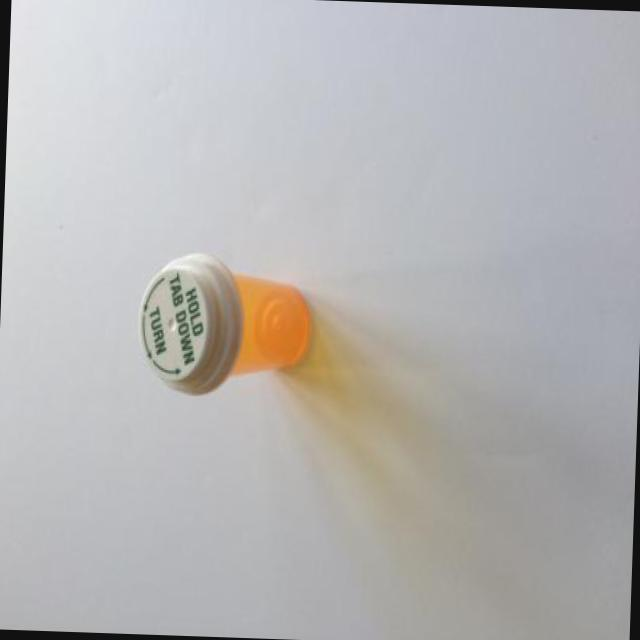Recycle: (136, 251, 316, 406)
